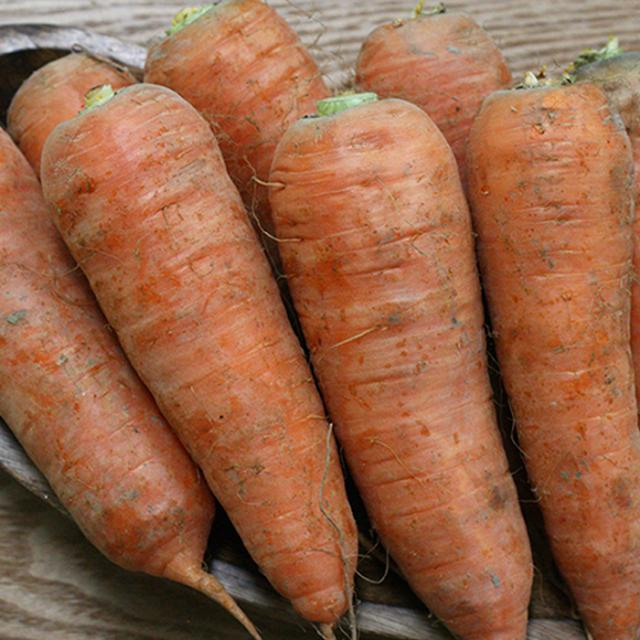carrot: (40, 82, 364, 636), (270, 91, 539, 640), (468, 72, 640, 640)
